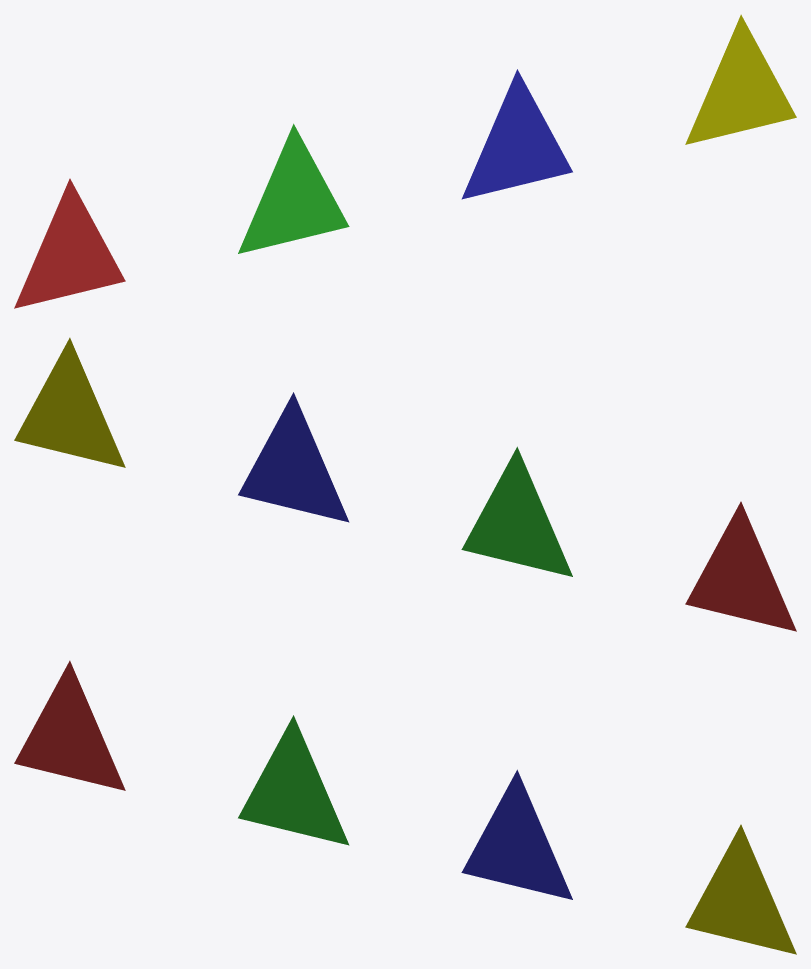
Rendered from seed_dae_materials.dae.
3 views of the same model, one above another, from view 1: azimuth 30°, elevation 25°; view 2: azimuth 150°, elevation 25°; view 3: azimuth 330°, elevation 25° (orthographic).
Parts seen in each view (by area): view 1: N2, N1, N3, N4; view 2: N2, N1, N3, N4; view 3: N3, N4, N1, N2.
Part boxes in pixels (bbox=[...]): N2: bbox=[238, 123, 349, 253]; N1: bbox=[14, 178, 125, 308]; N3: bbox=[461, 69, 572, 199]; N4: bbox=[685, 14, 796, 144]; N2: bbox=[461, 446, 572, 576]; N1: bbox=[685, 501, 796, 631]; N3: bbox=[238, 392, 349, 522]; N4: bbox=[14, 337, 125, 467]; N3: bbox=[461, 769, 572, 899]; N4: bbox=[685, 824, 796, 954]; N1: bbox=[14, 660, 125, 790]; N2: bbox=[238, 715, 349, 845].
Size of the model in its own units: 7 by 1 by 0.
